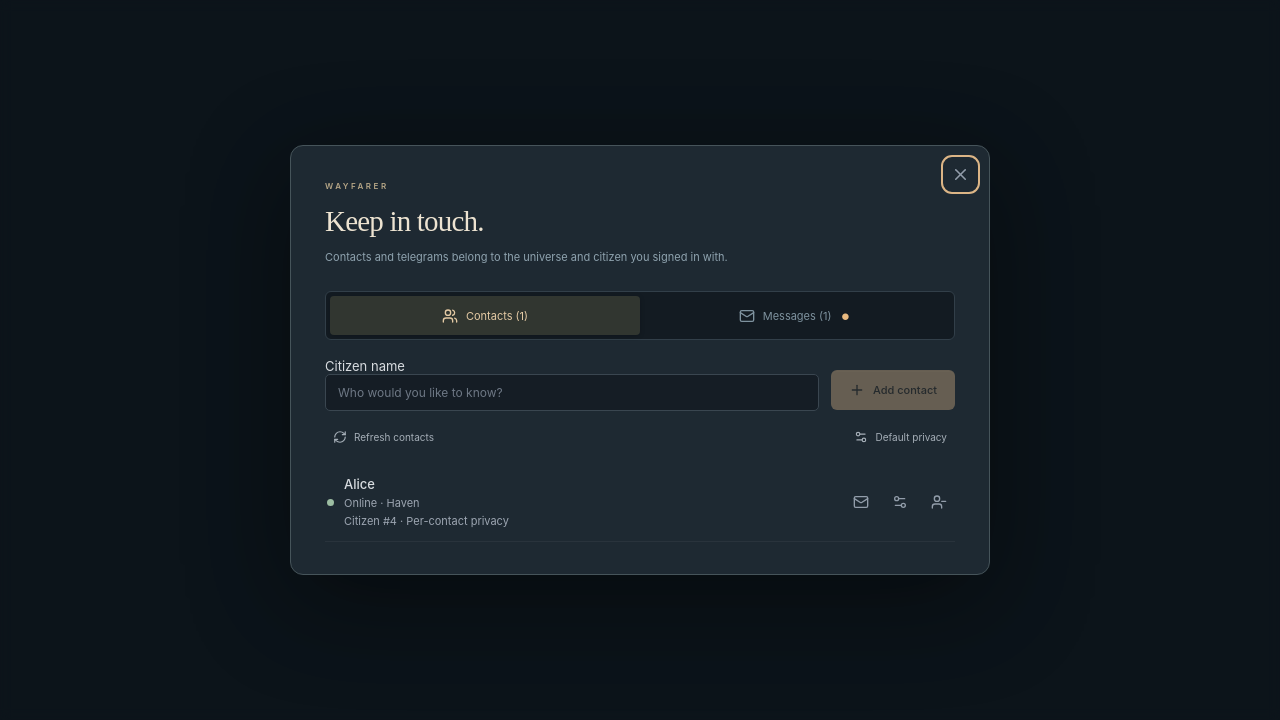
it: explicit social actions › never collects telegrams, refreshes or accepts requests on mount, StrictMode or tab changes
Click the tab "Messages (1) •" at (795, 316), box [640,296,950,335]
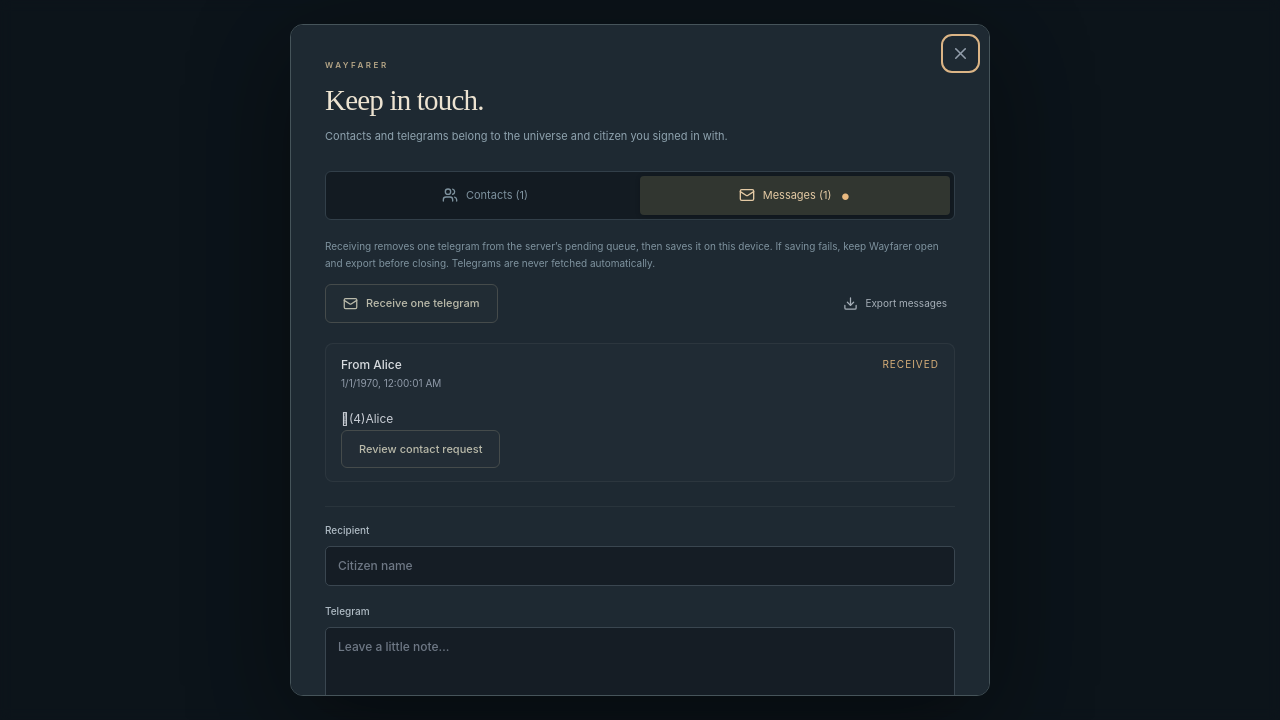
Click the button "Review contact request" at (421, 449), box [341,430,500,468]
(page scrolled)
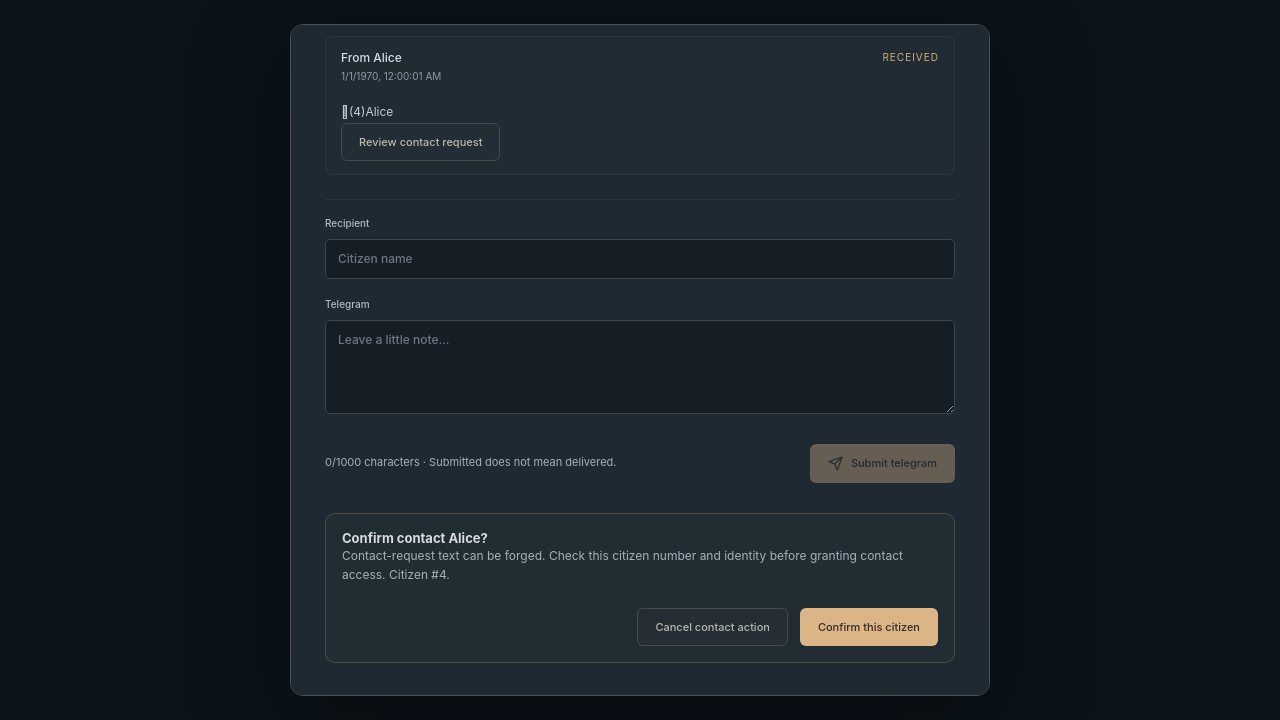
Check: the element named "Confirm contact action" shows "can be forged", box [342,548,903,582]
